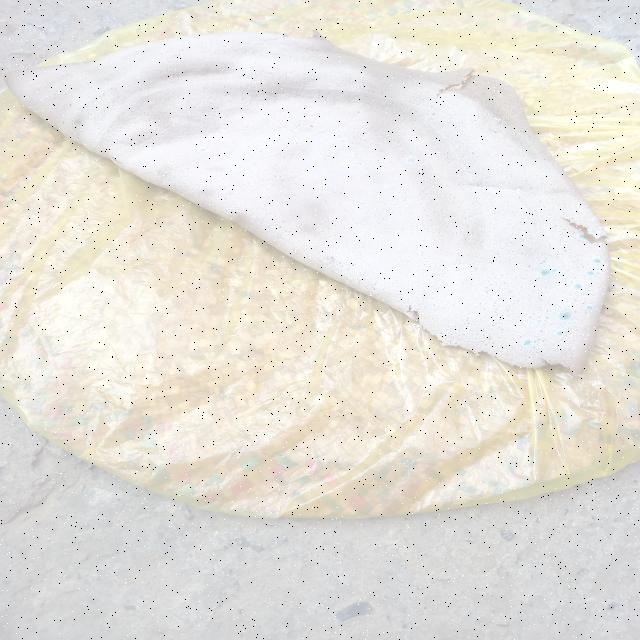injera_mold: (577, 231, 592, 241), (558, 312, 572, 320), (593, 243, 609, 250), (598, 265, 610, 274), (594, 226, 606, 234), (522, 338, 533, 346), (406, 156, 417, 164), (540, 268, 550, 276), (592, 256, 602, 264), (587, 216, 600, 222), (492, 117, 504, 122), (586, 270, 595, 276), (573, 284, 583, 289), (555, 331, 564, 336), (602, 278, 609, 284), (596, 306, 601, 314), (535, 319, 542, 324), (586, 306, 594, 310), (601, 290, 607, 295), (200, 148, 207, 152), (603, 285, 608, 290), (77, 76, 82, 81), (552, 268, 558, 272), (61, 73, 66, 75), (585, 338, 588, 341), (566, 262, 570, 264), (581, 334, 585, 336), (587, 334, 589, 336), (502, 122, 504, 124), (494, 128, 496, 130), (486, 117, 488, 119), (488, 113, 490, 115), (83, 73, 85, 75), (73, 75, 76, 76), (484, 124, 486, 125), (79, 71, 80, 73), (76, 81, 77, 82)
